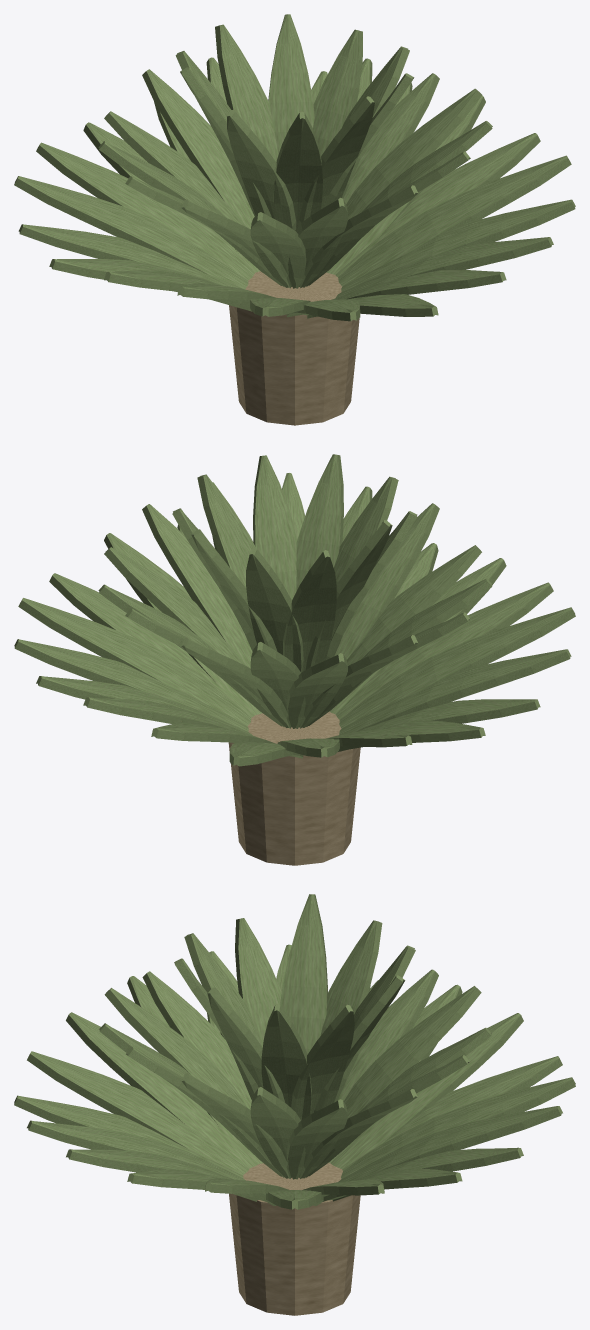
Rendered from SUCCULENT_03_DESERT_ALOE.glb.
3 renders of one model, top to bottom at view 1: azimuth 30°, elevation 25°; view 2: azimuth 150°, elevation 25°; view 3: azimuth 270°, elevation 25°, orthographic.
Parts seen in each view (by area): view 1: SUCCULENT_03_DESERT_ALOE__THICK_ALOE_LEAVES, SUCCULENT_03_DESERT_ALOE__DRY_BASAL_SHEATH; view 2: SUCCULENT_03_DESERT_ALOE__THICK_ALOE_LEAVES, SUCCULENT_03_DESERT_ALOE__DRY_BASAL_SHEATH; view 3: SUCCULENT_03_DESERT_ALOE__THICK_ALOE_LEAVES, SUCCULENT_03_DESERT_ALOE__DRY_BASAL_SHEATH.
Boxes of the visible parts, <box> form: SUCCULENT_03_DESERT_ALOE__THICK_ALOE_LEAVES: <box>14,14,575,321</box>; SUCCULENT_03_DESERT_ALOE__DRY_BASAL_SHEATH: <box>229,271,359,425</box>; SUCCULENT_03_DESERT_ALOE__THICK_ALOE_LEAVES: <box>14,454,575,766</box>; SUCCULENT_03_DESERT_ALOE__DRY_BASAL_SHEATH: <box>228,711,360,865</box>; SUCCULENT_03_DESERT_ALOE__THICK_ALOE_LEAVES: <box>14,894,575,1209</box>; SUCCULENT_03_DESERT_ALOE__DRY_BASAL_SHEATH: <box>229,1162,360,1315</box>.
Size of the model in its own units: 0.6641 by 0.4571 by 0.6641.
Materials: 1 (1 with a texture image).
